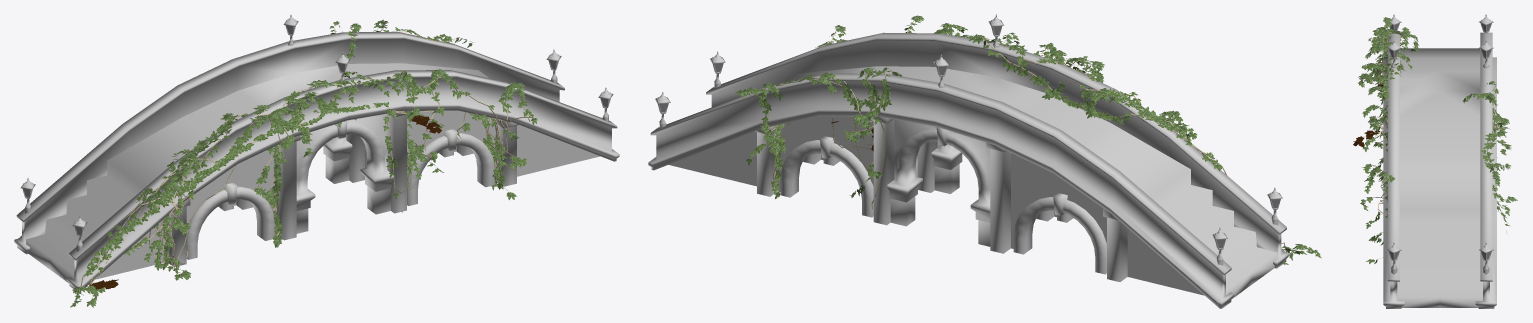
File: bruecke_final.FBX.fbx
3 views of the same model, side by side, from view 1: azimuth 30°, elevation 25°; view 2: azimuth 150°, elevation 25°; view 3: azimuth 270°, elevation 25° (orthographic). The views are drawn at different scales.
Parts seen in each view (by area): view 1: Lowpoly002, gwIvy001, gwIvy003, gwIvy002; view 2: Lowpoly002, gwIvy001, gwIvy002, gwIvy003; view 3: Lowpoly002, gwIvy003, gwIvy001, gwIvy002, Shape001.
Part boxes in pixels (left/top/right/bottom): Lowpoly002: left=14, top=14, right=619, bottom=290; gwIvy001: left=70, top=71, right=400, bottom=307; gwIvy003: left=289, top=69, right=537, bottom=212; gwIvy002: left=329, top=19, right=474, bottom=59; Lowpoly002: left=648, top=14, right=1289, bottom=308; gwIvy001: left=960, top=32, right=1321, bottom=264; gwIvy002: left=735, top=67, right=902, bottom=209; gwIvy003: left=815, top=15, right=1080, bottom=70; Lowpoly002: left=1383, top=14, right=1496, bottom=308; gwIvy003: left=1353, top=43, right=1394, bottom=263; gwIvy001: left=1358, top=17, right=1418, bottom=123; gwIvy002: left=1462, top=81, right=1517, bottom=232; Shape001: left=1389, top=23, right=1490, bottom=259.
Size of the model in its own units: 289 by 87.92 by 83.45.
